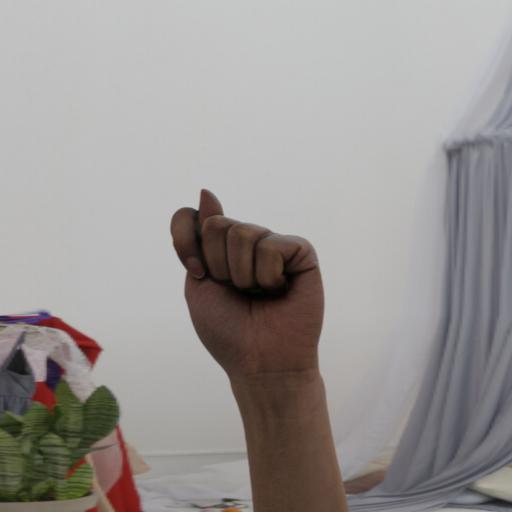T: (159, 183, 340, 512)
